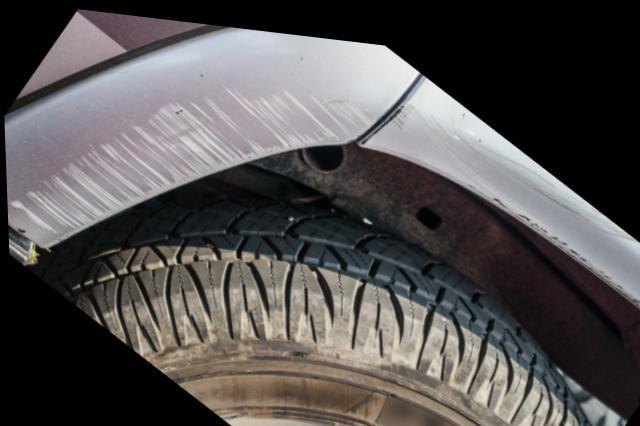scratch: (6, 79, 379, 239), (359, 94, 640, 296)
